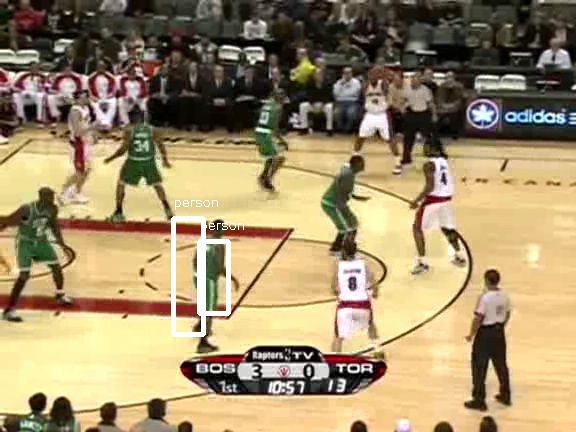person: (192, 235, 226, 316), (191, 235, 225, 316), (193, 235, 227, 316), (192, 234, 226, 315), (192, 236, 226, 317)
target_negative: (94, 304, 518, 432), (255, 290, 528, 357), (176, 294, 360, 381), (423, 375, 496, 410), (128, 272, 455, 279), (571, 205, 574, 237)
